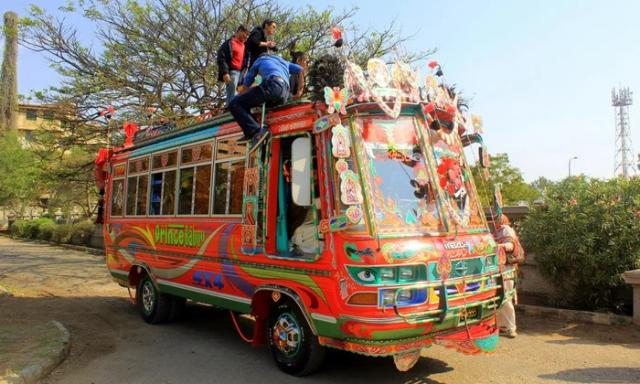Bus: (96, 74, 508, 378)
Person: (231, 51, 294, 150), (209, 23, 251, 103), (245, 16, 280, 71), (287, 47, 314, 86)
